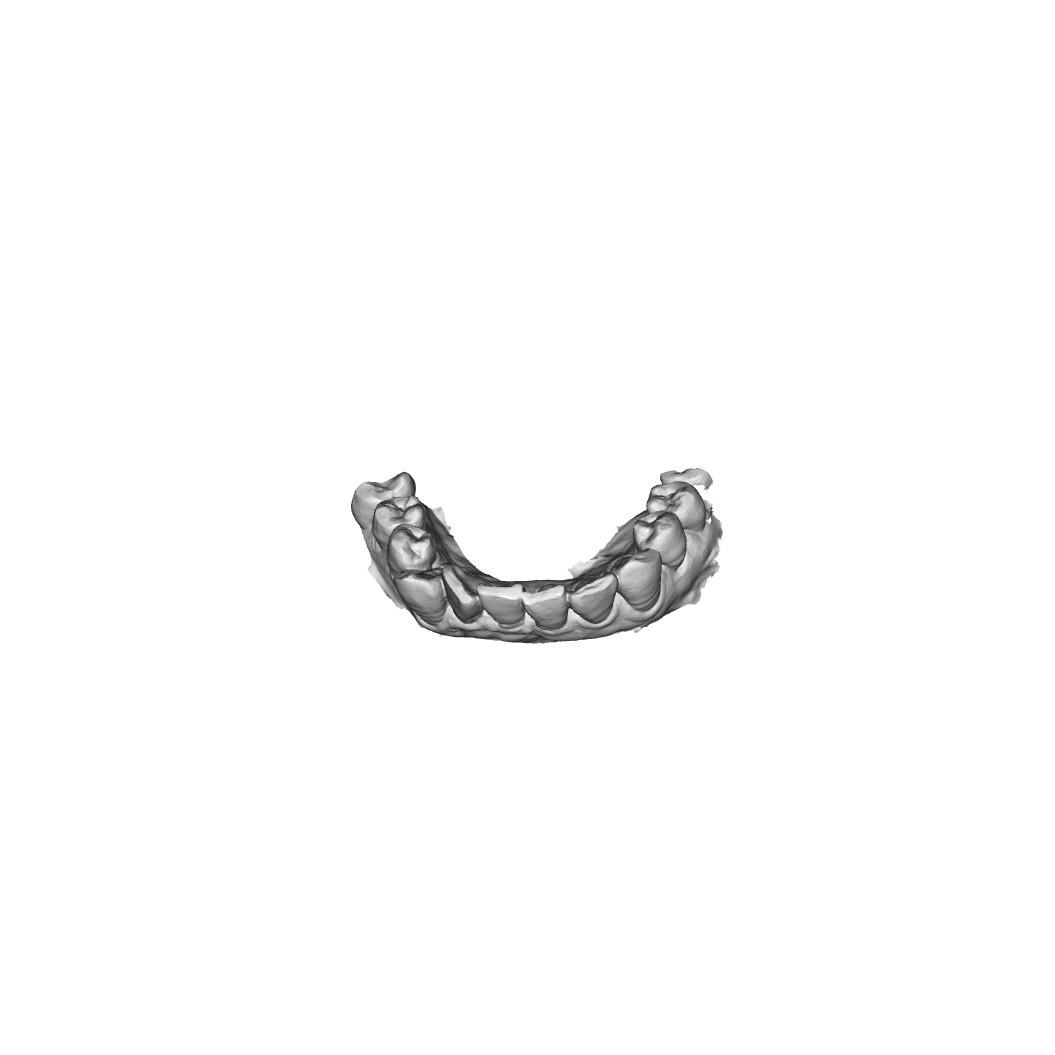canine: (612, 549, 666, 614), (394, 566, 447, 629)
incisor: (568, 571, 620, 625), (476, 577, 526, 631), (520, 582, 568, 631), (442, 564, 479, 624)
premolar: (629, 513, 688, 571), (648, 480, 708, 535), (368, 494, 427, 548), (386, 521, 437, 578)
